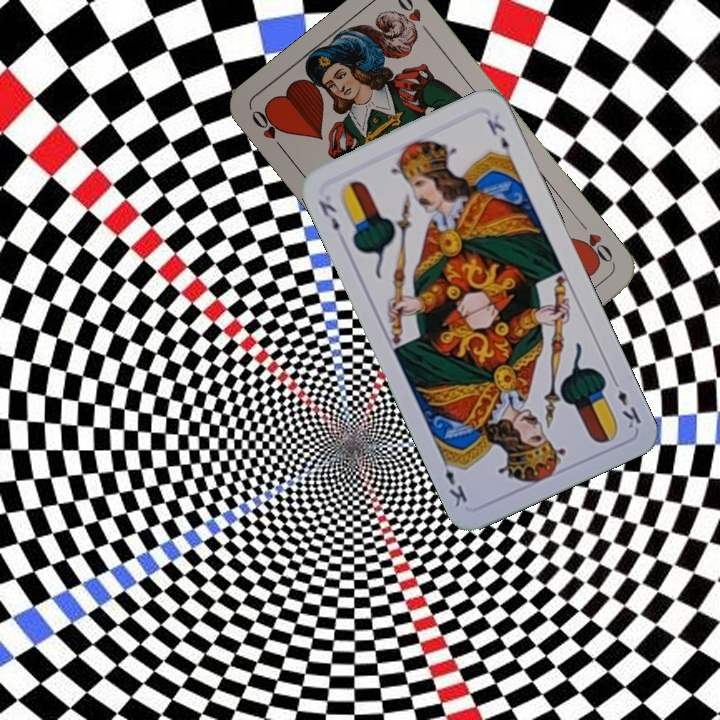EK: (608, 373, 644, 431), (314, 196, 342, 234)
HO: (574, 216, 616, 268), (247, 106, 289, 156)
